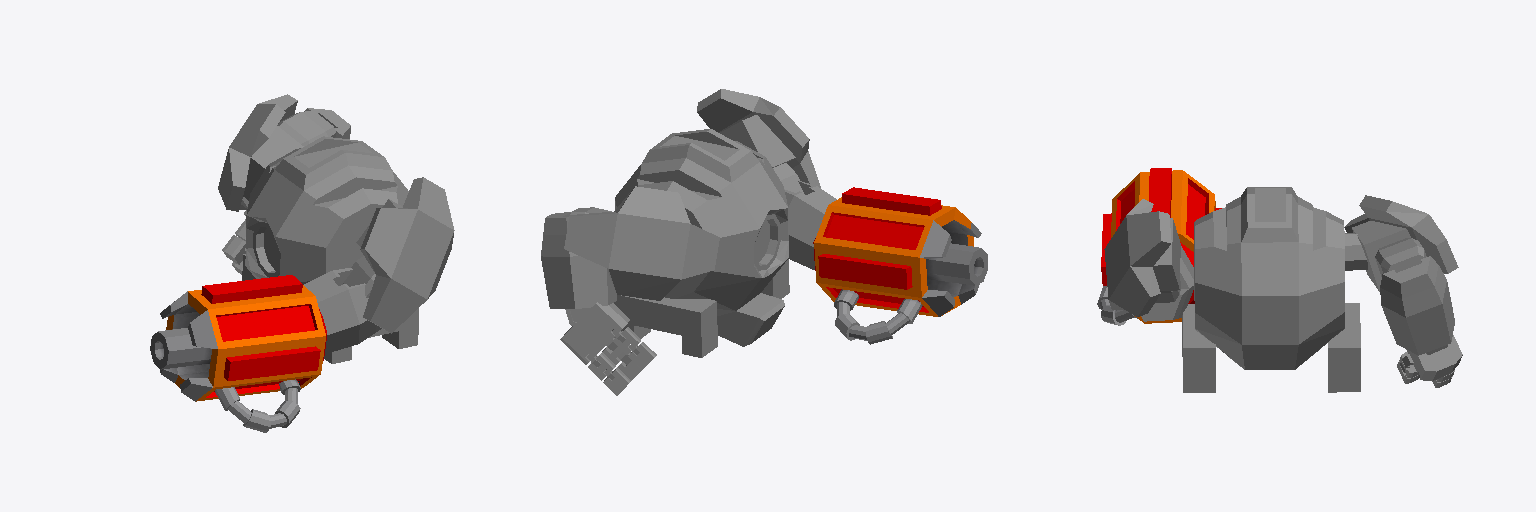
3 renders of one model, left to right at view 1: azimuth 30°, elevation 25°; view 2: azimuth 150°, elevation 25°; view 3: azimuth 270°, elevation 25°, orthographic.
Parts seen in each view (by area): view 1: Cylinder003, Plane001, Object006, Object002, Object007, Object004; view 2: Plane001, Cylinder003, Object002, Object006, Object004, Object003, Object007; view 3: Plane001, Object006, Object002, Cylinder003, Object003, Object004, Object007, Object001.
Boxes of the visible parts, x1=… form: Cylinder003: x1=150, y1=275, x2=326, y2=432; Plane001: x1=242, y1=136, x2=418, y2=363; Object006: x1=343, y1=177, x2=454, y2=333; Object002: x1=218, y1=94, x2=336, y2=211; Object007: x1=304, y1=268, x2=381, y2=353; Object004: x1=222, y1=210, x2=246, y2=274; Plane001: x1=614, y1=129, x2=789, y2=357; Cylinder003: x1=813, y1=187, x2=987, y2=344; Object002: x1=564, y1=186, x2=719, y2=300; Object006: x1=697, y1=89, x2=820, y2=192; Object004: x1=560, y1=302, x2=656, y2=395; Object003: x1=541, y1=212, x2=616, y2=308; Object007: x1=784, y1=181, x2=836, y2=269; Plane001: x1=1182, y1=187, x2=1360, y2=392; Object006: x1=1104, y1=199, x2=1180, y2=316; Object002: x1=1344, y1=195, x2=1458, y2=291; Cylinder003: x1=1097, y1=168, x2=1221, y2=325; Object003: x1=1380, y1=256, x2=1454, y2=355; Object004: x1=1397, y1=335, x2=1462, y2=387; Object007: x1=1141, y1=246, x2=1193, y2=321; Object001: x1=1345, y1=233, x2=1367, y2=270.
Bounding box in the file's own units: 190 × 114 × 194.
2 materials, 1 textured.